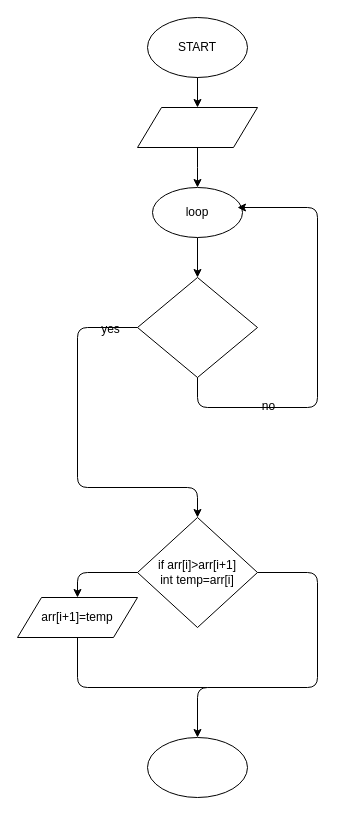
Image size: 343x815. Some labels were removed from this diagram. The shapes that lost their labels are listed below. From the top down, each one's centre as x and y in pixels, then its label:
[197,127]: input cocktaisort
[197,327]: for inti=0;<=arr.length -2;i++
